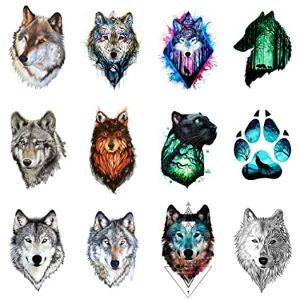wolf: (5, 3, 68, 92), (232, 6, 293, 92), (80, 8, 143, 91), (8, 107, 69, 190), (9, 205, 66, 289), (88, 108, 141, 197), (235, 205, 290, 289), (160, 198, 215, 280), (85, 209, 136, 288), (161, 10, 215, 60)
